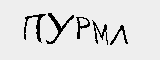Л: (110, 24, 132, 47)
М: (93, 22, 110, 49)
П: (22, 11, 47, 44)
Р: (75, 17, 90, 43)
У: (44, 10, 73, 46)
